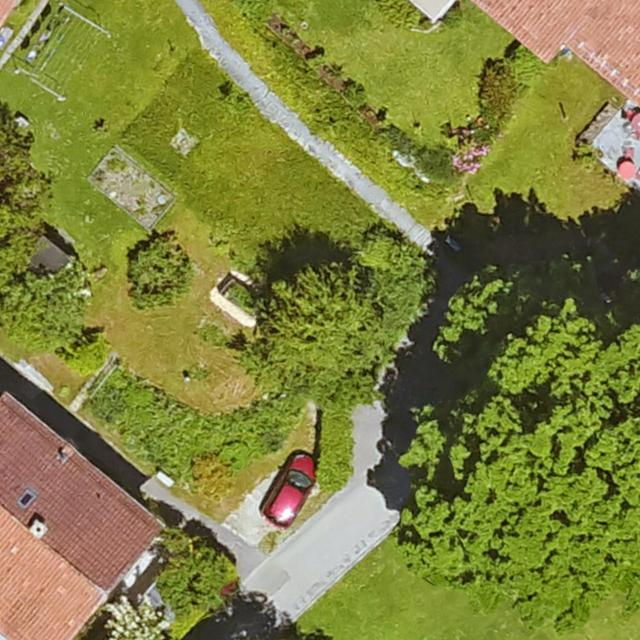tree: (421, 280, 640, 592), (253, 263, 379, 386)
